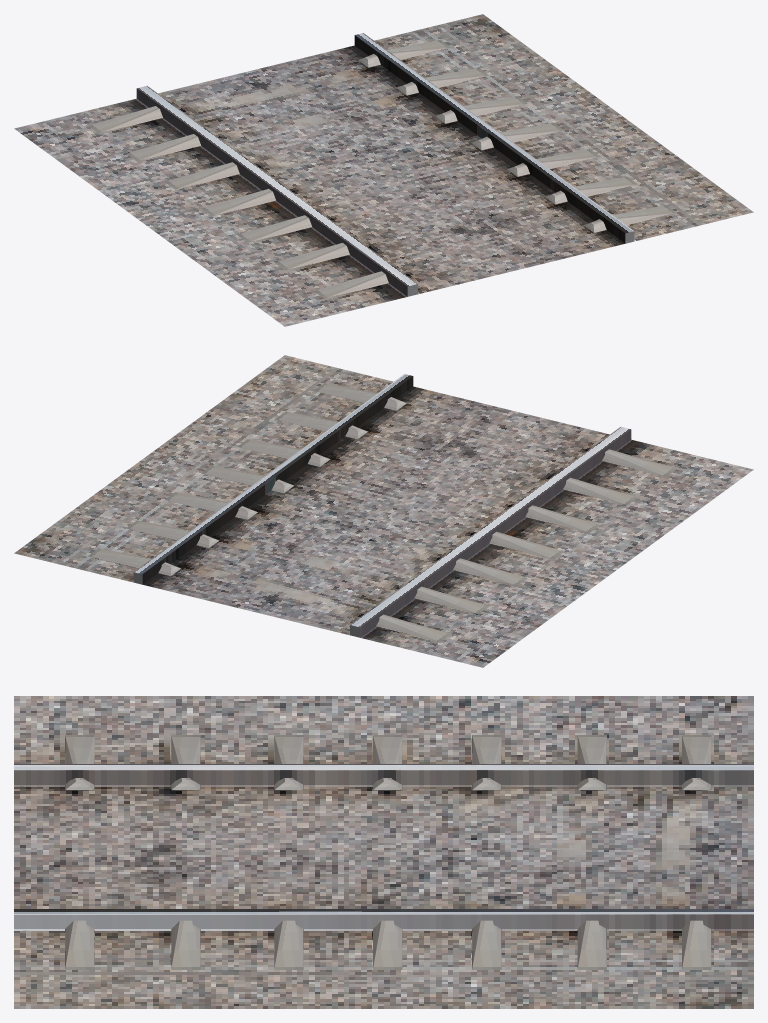
The model's file is rail.glb.
3 views of the same model, one above another, from view 1: azimuth 30°, elevation 25°; view 2: azimuth 150°, elevation 25°; view 3: azimuth 270°, elevation 25° (orthographic). The views are drawn at different scales.
Parts seen in each view (by area): view 1: Plane.002; view 2: Plane.002; view 3: Plane.002.
Part boxes in pixels (x1,y1,x2,y2): Plane.002: [14, 14, 753, 326]; Plane.002: [14, 355, 753, 667]; Plane.002: [14, 696, 753, 1008].
Bounding box in the file's own units: 2 × 0.0422 × 2.
Materials: 1 (1 with a texture image).
